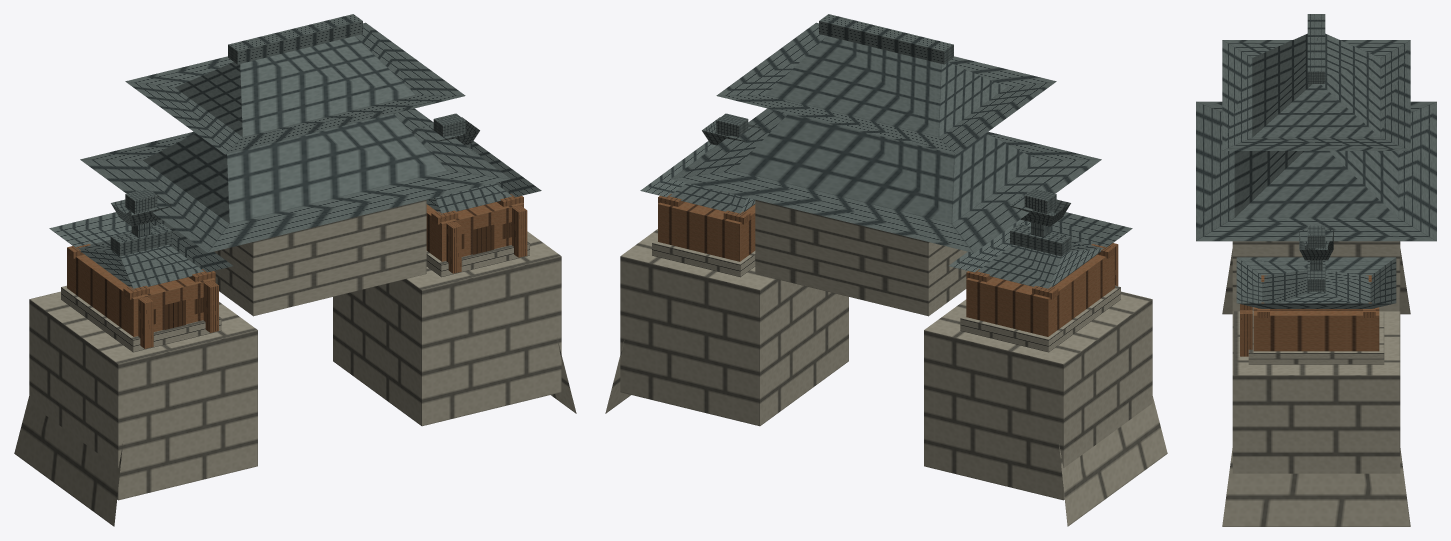
File: gate-lod1.glb
3 renders of one model, left to right at view 1: azimuth 30°, elevation 25°; view 2: azimuth 150°, elevation 25°; view 3: azimuth 270°, elevation 25°, orthographic. The views are drawn at different scales.
Bounding box in the file's own units: 0.96 × 0.796 × 0.46.
Materials: 1 (1 with a texture image).
